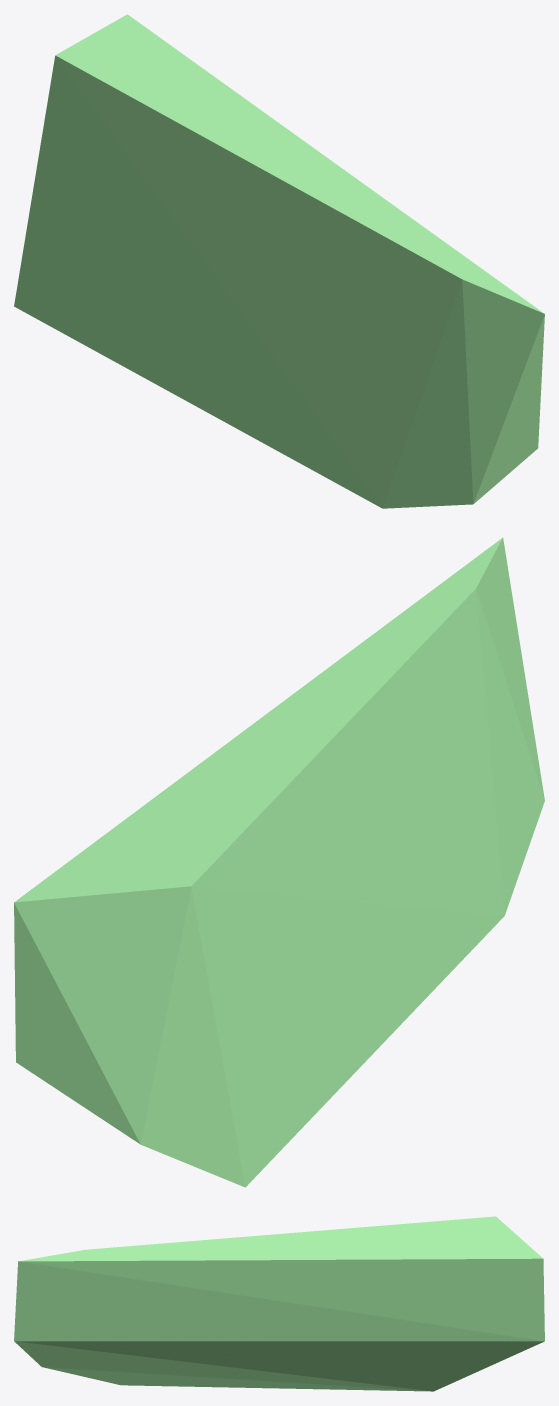
Rendered from UMIRobot_UMIRobot_link_2_convex_coll_38.dae.
The picture shows the model from 3 angles, top to bottom: view 1: azimuth 30°, elevation 25°; view 2: azimuth 150°, elevation 25°; view 3: azimuth 270°, elevation 25°; orthographic projection. The views are drawn at different scales.
Visible parts, largest first — view 1: node; view 2: node; view 3: node.
Boxes of the visible parts, x1,y1,x2,y2 form: node: [14, 14, 544, 508]; node: [14, 537, 544, 1187]; node: [14, 1216, 544, 1391].
Bounding box in the file's own units: 0.00438 × 0.0065 × 0.0198.
